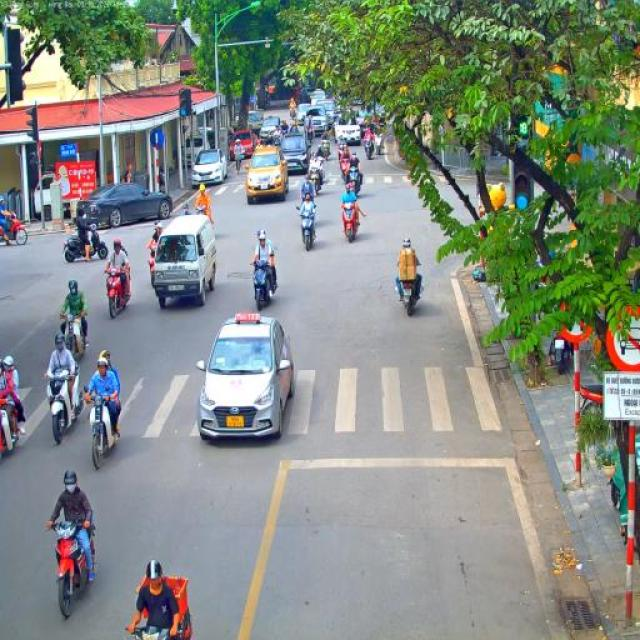car: (196, 312, 296, 443), (76, 181, 174, 230), (245, 144, 290, 204), (192, 149, 228, 190), (280, 134, 310, 175), (306, 104, 329, 142), (332, 118, 362, 146), (231, 130, 255, 160), (355, 100, 381, 124), (294, 102, 312, 134), (260, 116, 281, 142), (319, 100, 335, 124), (311, 90, 327, 104)
motorcycle: (45, 512, 96, 622), (43, 367, 85, 445), (83, 392, 121, 471), (125, 607, 194, 640), (58, 312, 88, 376), (63, 223, 109, 263), (250, 257, 279, 312), (0, 398, 25, 461), (548, 313, 572, 376), (104, 266, 130, 319), (0, 209, 29, 247), (398, 276, 422, 316), (298, 212, 318, 250), (340, 203, 359, 243), (346, 166, 362, 199), (148, 241, 158, 288), (308, 168, 322, 192), (339, 156, 351, 183), (316, 154, 326, 186), (194, 205, 210, 220), (364, 139, 374, 160), (373, 136, 383, 156), (322, 139, 331, 161), (370, 124, 379, 140), (306, 124, 313, 144), (272, 136, 282, 148), (289, 104, 295, 120), (286, 128, 294, 137)
truck: (150, 212, 220, 310), (30, 188, 70, 223), (183, 127, 214, 164), (247, 110, 263, 139), (300, 88, 314, 104)
